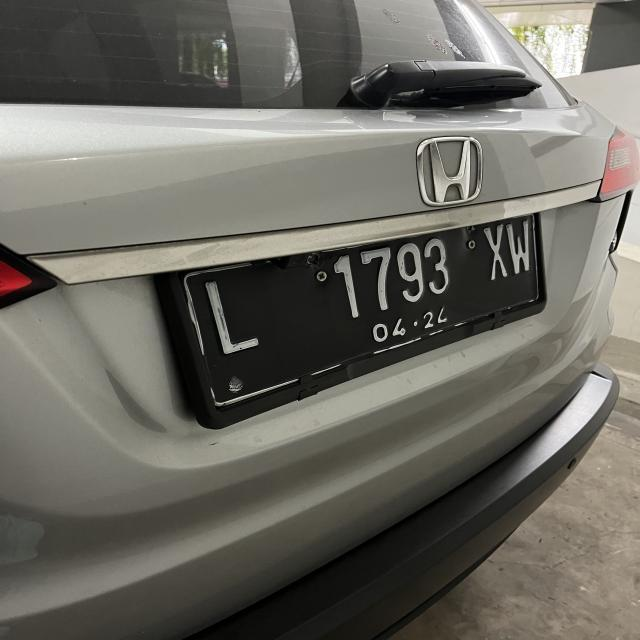1: (328, 254, 358, 328)
3: (425, 235, 452, 302)
7: (360, 246, 394, 312)
9: (396, 240, 422, 309)
L: (199, 277, 270, 357)
W: (508, 218, 534, 276)
X: (484, 222, 508, 288)
